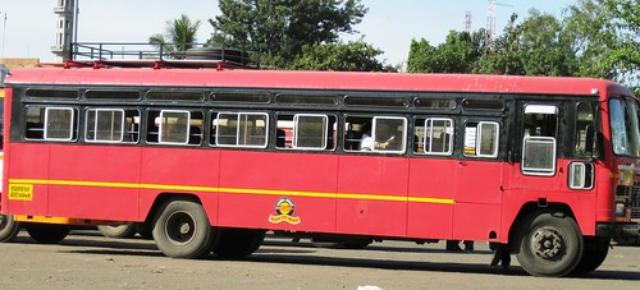bus: (1, 58, 640, 278)
